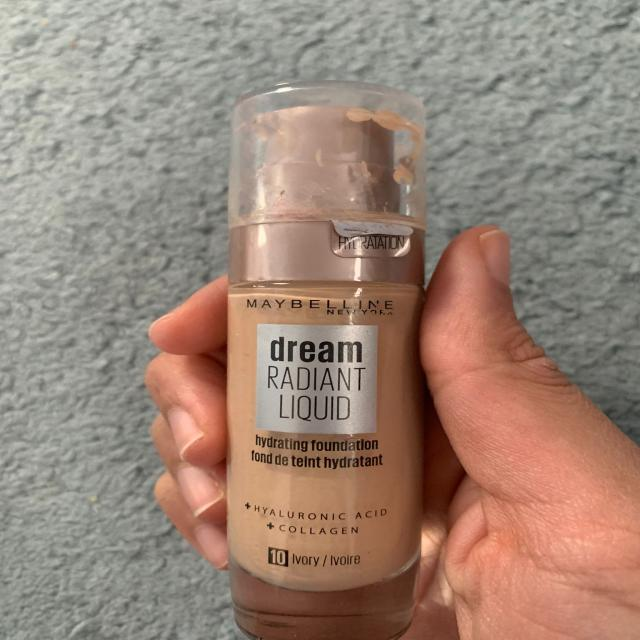foundation: (158, 53, 478, 640)
